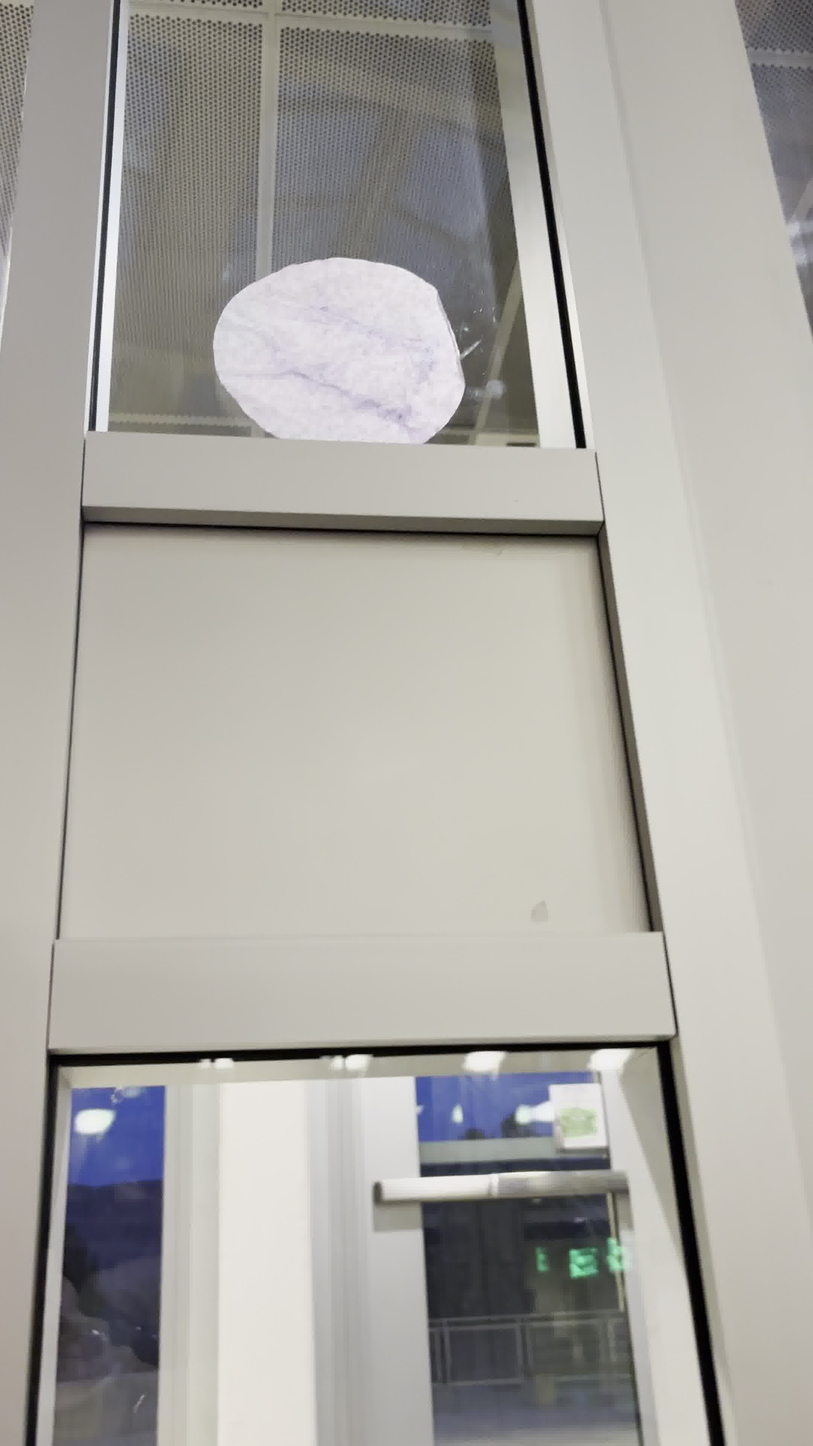Target: (208, 253, 470, 451)
